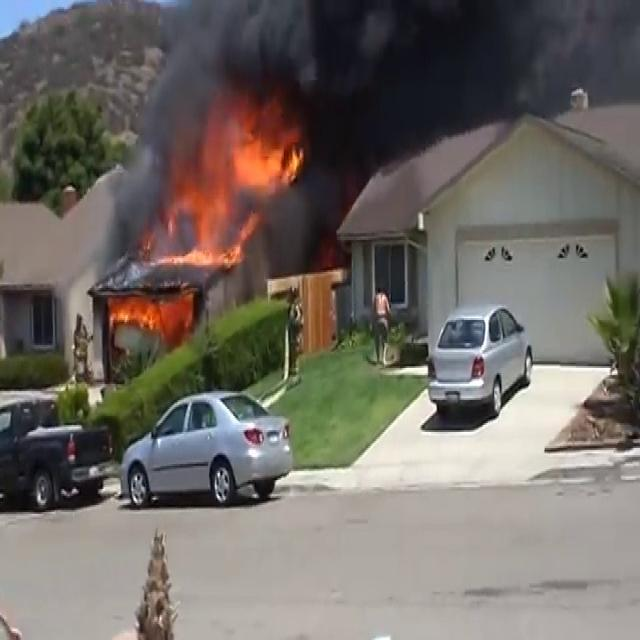Fire: (162, 99, 304, 268), (104, 288, 195, 342)
Smoke: (101, 0, 638, 231)
